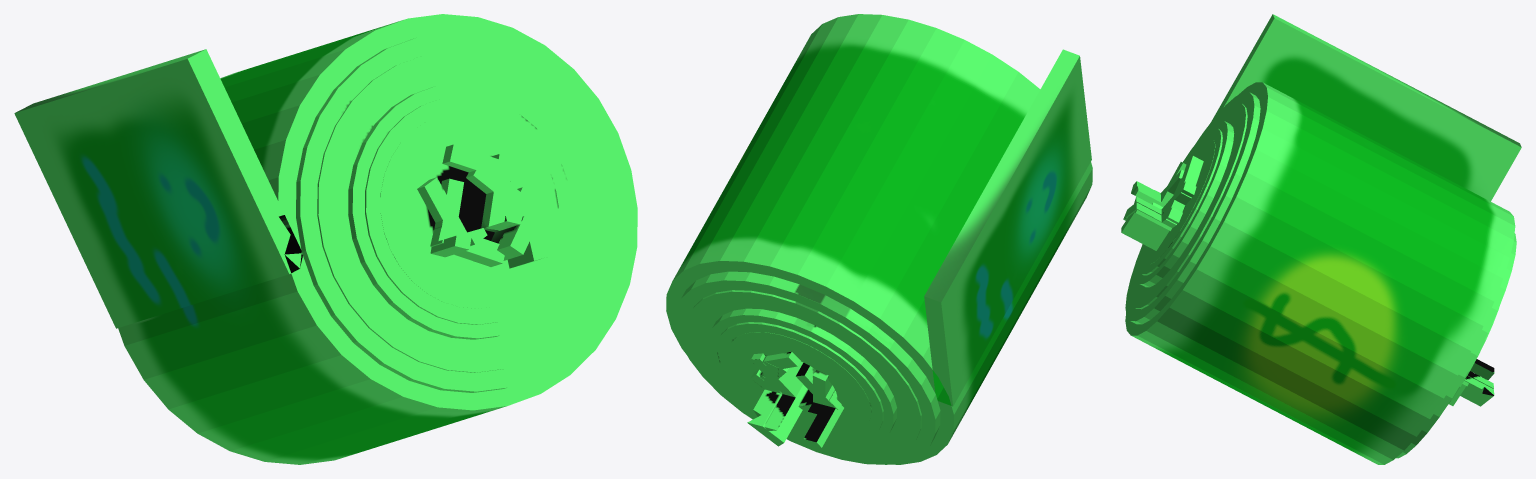
Rendered from Money_Wad.fbx.
The picture shows the model from 3 angles, left to right: view 1: azimuth 30°, elevation 25°; view 2: azimuth 150°, elevation 25°; view 3: azimuth 270°, elevation 25°; orthographic projection. The views are drawn at different scales.
Visible parts, largest first — view 1: Cylinder; view 2: Cylinder; view 3: Cylinder.
Boxes of the visible parts, x1,y1,x2,y2 form: Cylinder: [14, 14, 637, 464]; Cylinder: [666, 14, 1092, 464]; Cylinder: [1121, 14, 1521, 464].
Size of the model in its own units: 225 by 281 by 281.
1 material, 1 textured.
